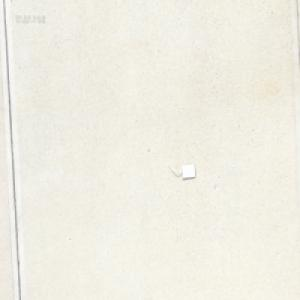LuggageTag: (166, 163, 195, 179)
